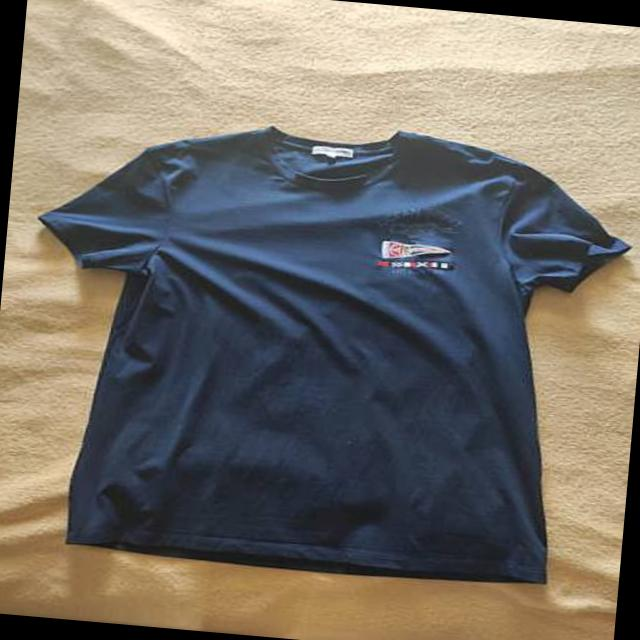T_SHIRT: (5, 93, 640, 602)
